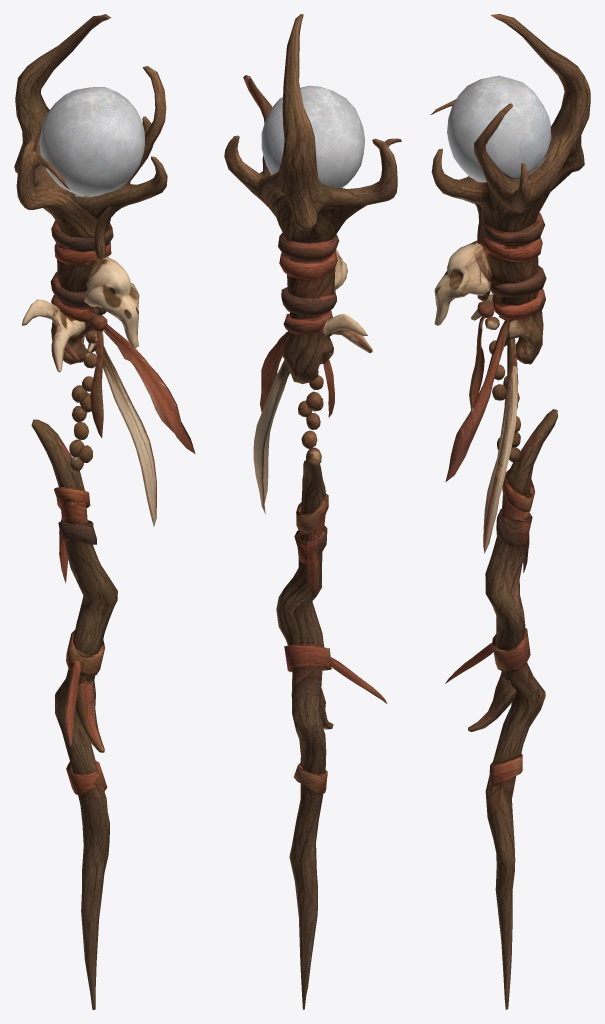
File: baston_chaman_equipo.glb
3 views of the same model, side by side, from view 1: azimuth 30°, elevation 25°; view 2: azimuth 150°, elevation 25°; view 3: azimuth 270°, elevation 25° (orthographic).
Visible parts, largest first — view 1: Baston, Orbe; view 2: Baston, Orbe; view 3: Baston, Orbe.
Boxes of the visible parts, x1,y1,x2,y2 form: Baston: (14, 14, 195, 1009); Orbe: (39, 87, 144, 195); Baston: (224, 14, 401, 1009); Orbe: (261, 85, 364, 188); Baston: (431, 14, 590, 1009); Orbe: (447, 75, 551, 182).
Bounding box in the file's own units: 0.1642 × 1 × 0.1458.
1 material, 1 textured.
